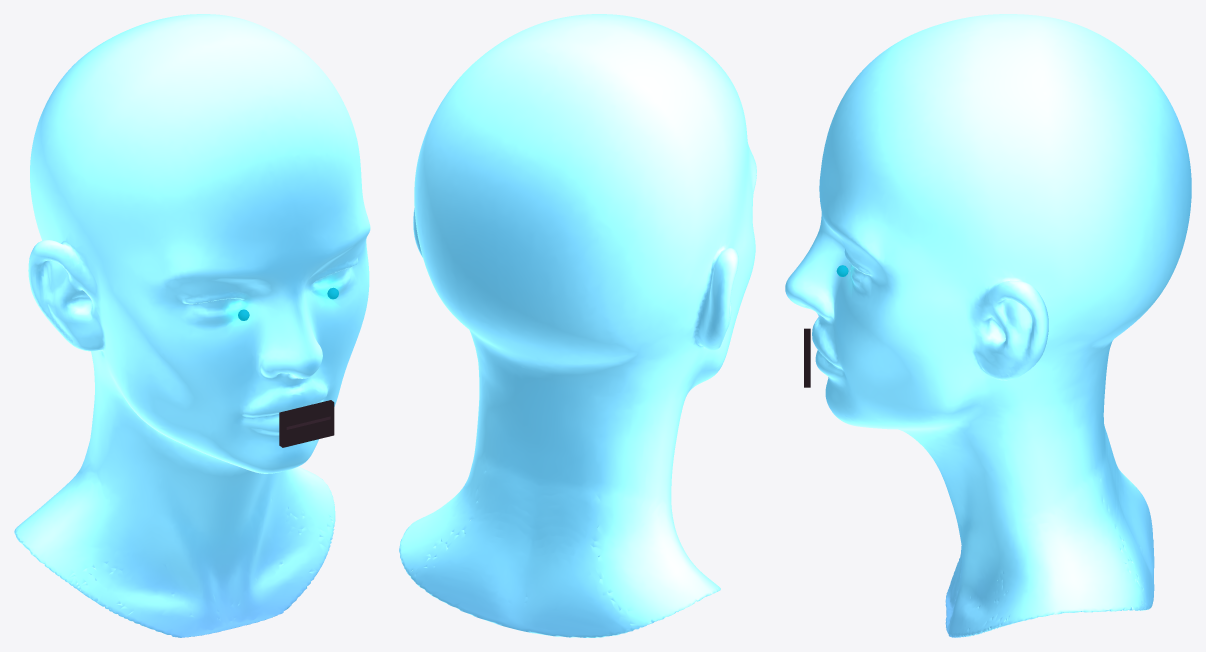
The model's file is lia_face_morph.glb.
3 renders of one model, left to right at view 1: azimuth 30°, elevation 25°; view 2: azimuth 150°, elevation 25°; view 3: azimuth 270°, elevation 25°, orthographic.
Visible parts, largest first — view 1: lia_head, mouth_cavity; view 2: lia_head; view 3: lia_head.
Part boxes in pixels (x1=…): lia_head: x1=14, y1=14, x2=370, y2=637; mouth_cavity: x1=279, y1=400, x2=334, y2=447; lia_head: x1=399, y1=14, x2=756, y2=637; lia_head: x1=785, y1=14, x2=1191, y2=637.
Size of the model in its own units: 1.1 by 1.91 by 1.21.
